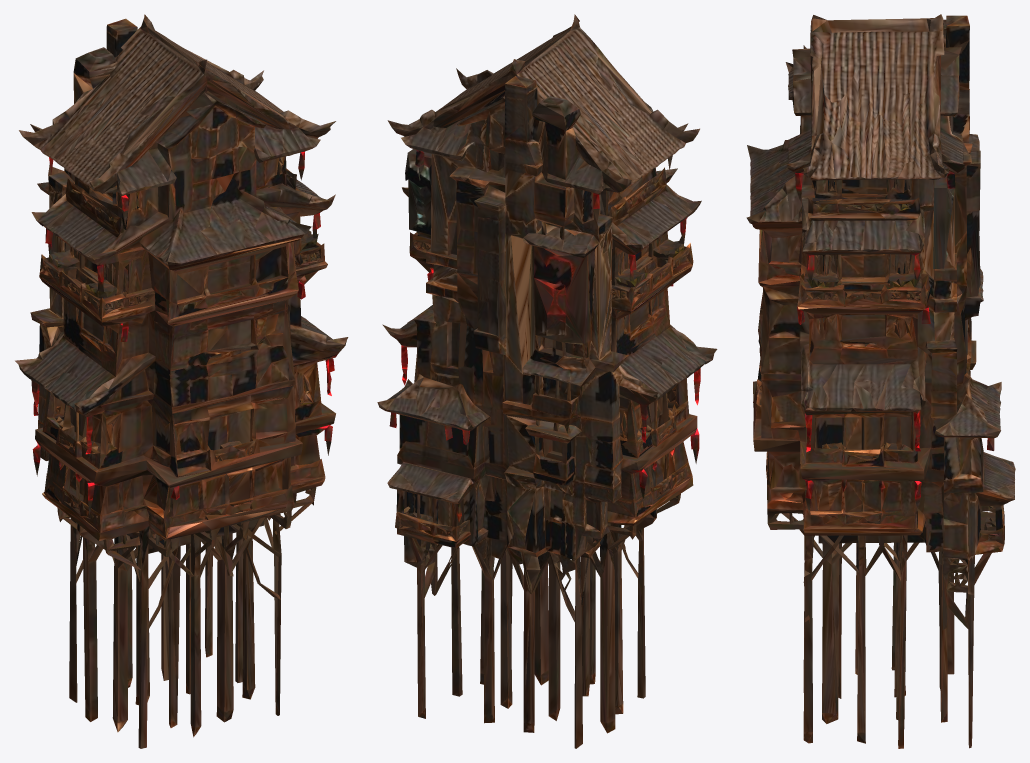
The picture shows the model from 3 angles, left to right: view 1: azimuth 30°, elevation 25°; view 2: azimuth 150°, elevation 25°; view 3: azimuth 270°, elevation 25°; orthographic projection. The views are drawn at different scales.
Parts seen in each view (by area): view 1: o01; view 2: o01; view 3: o01.
Part boxes in pixels (x1,y1,x2,y2): o01: [15, 14, 348, 748]; o01: [377, 14, 717, 748]; o01: [746, 14, 1015, 748].
Size of the model in its own units: 13.85 by 32 by 11.24.
Materials: 1 (1 with a texture image).
